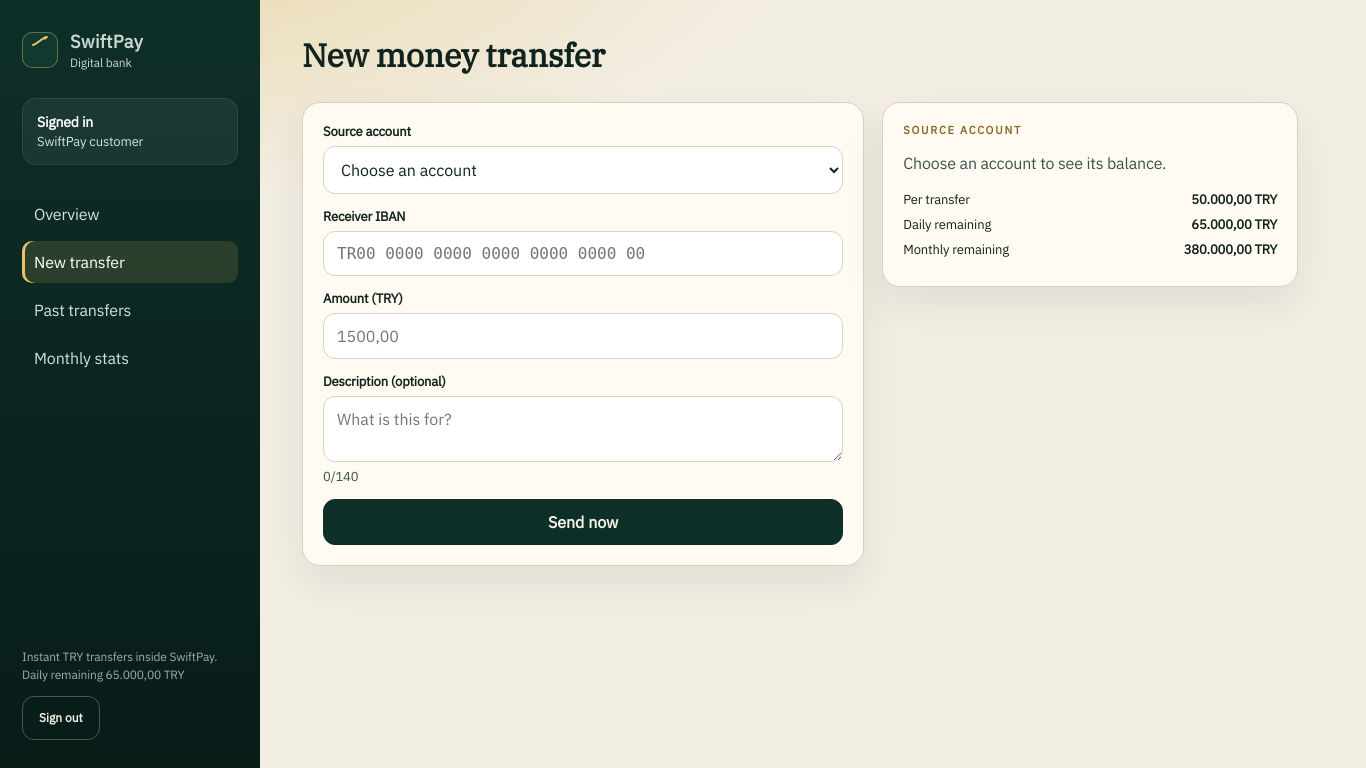
New transfer form › a double click sends exactly one request
Select "TR62 **** **** **** **** 1001 — 250.000,00 TRY" in the dropdown labelled "Source account": {"x": 583, "y": 170} x1=323 y1=146 x2=843 y2=194
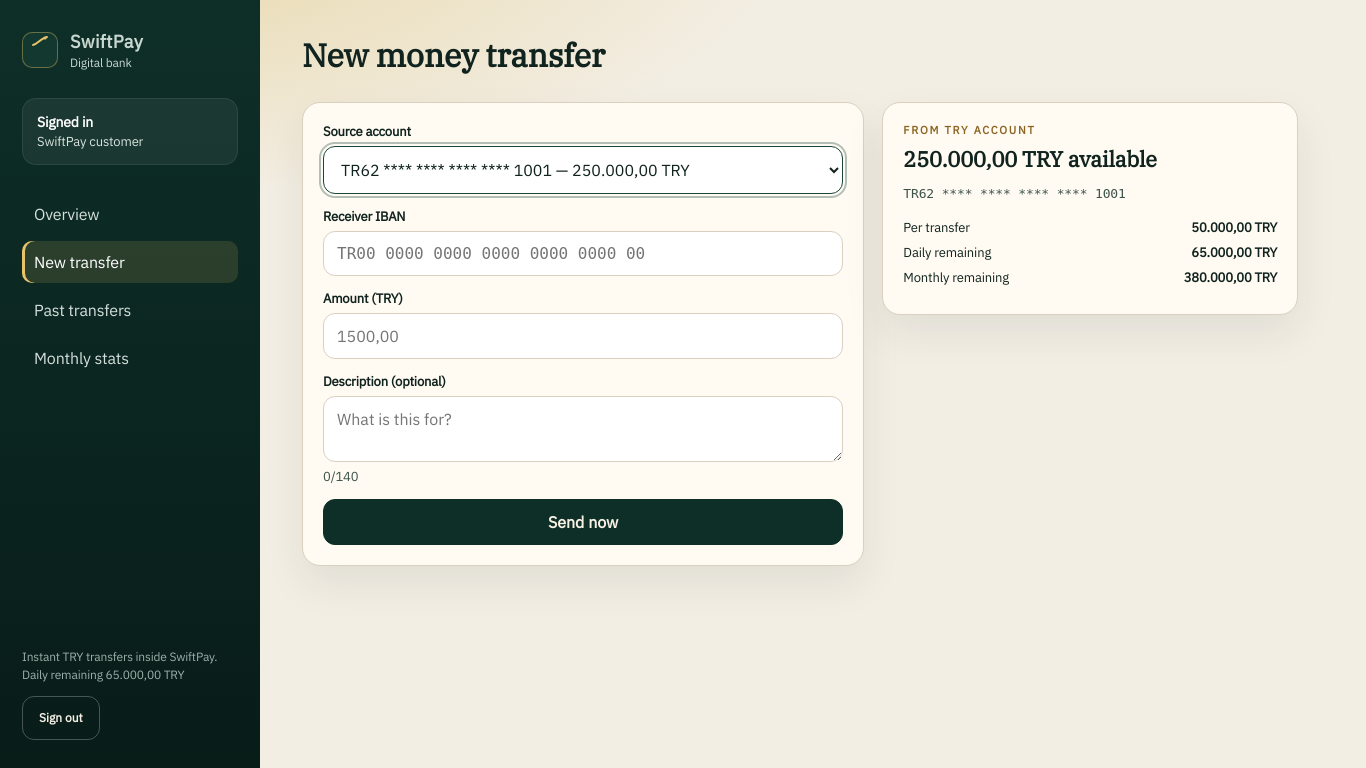
In the field labelled "Receiver IBAN": {"x": 583, "y": 254} x1=323 y1=231 x2=843 y2=276, type "TR690006200000000000002001"
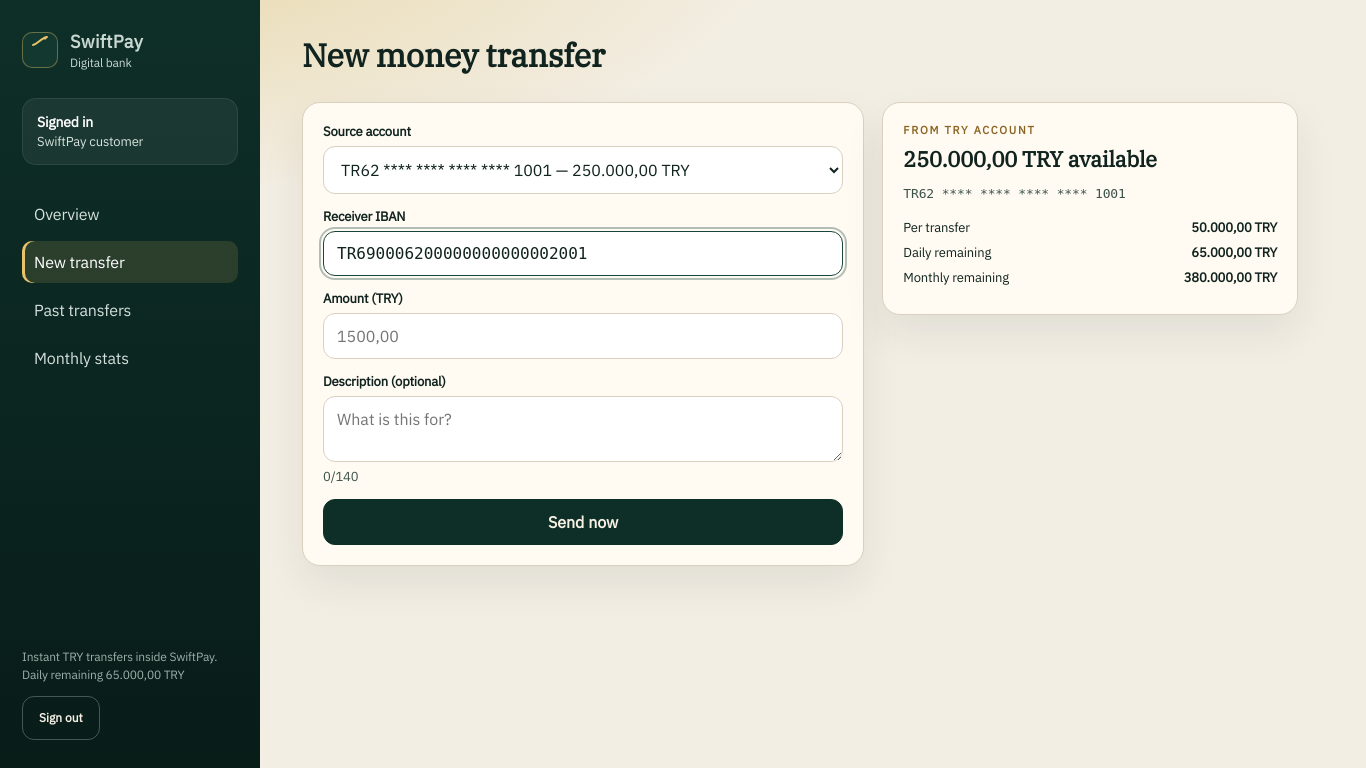
In the field labelled "Amount (TRY)": {"x": 583, "y": 336} x1=323 y1=313 x2=843 y2=359, type "1500"
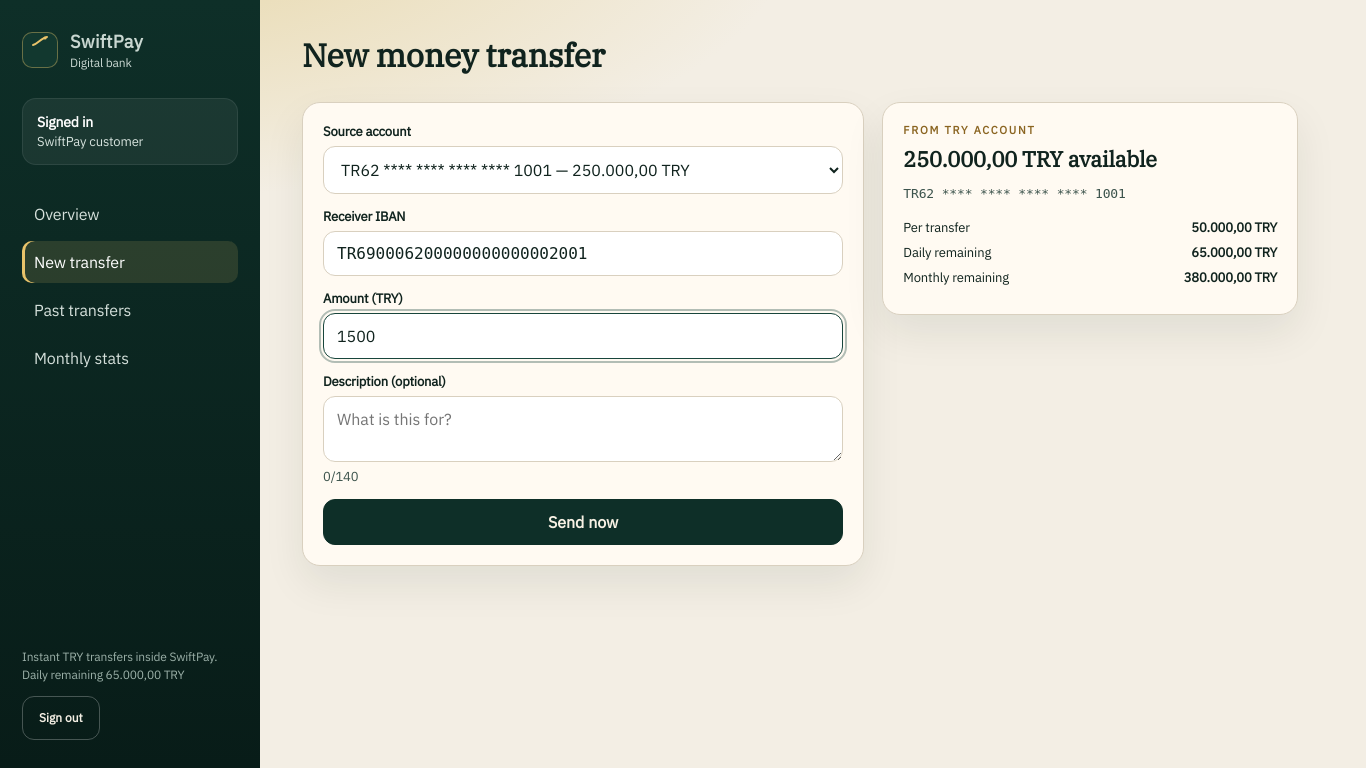
In the text box labelled "Description (optional)": {"x": 583, "y": 429} x1=323 y1=396 x2=843 y2=462, type "Kira"
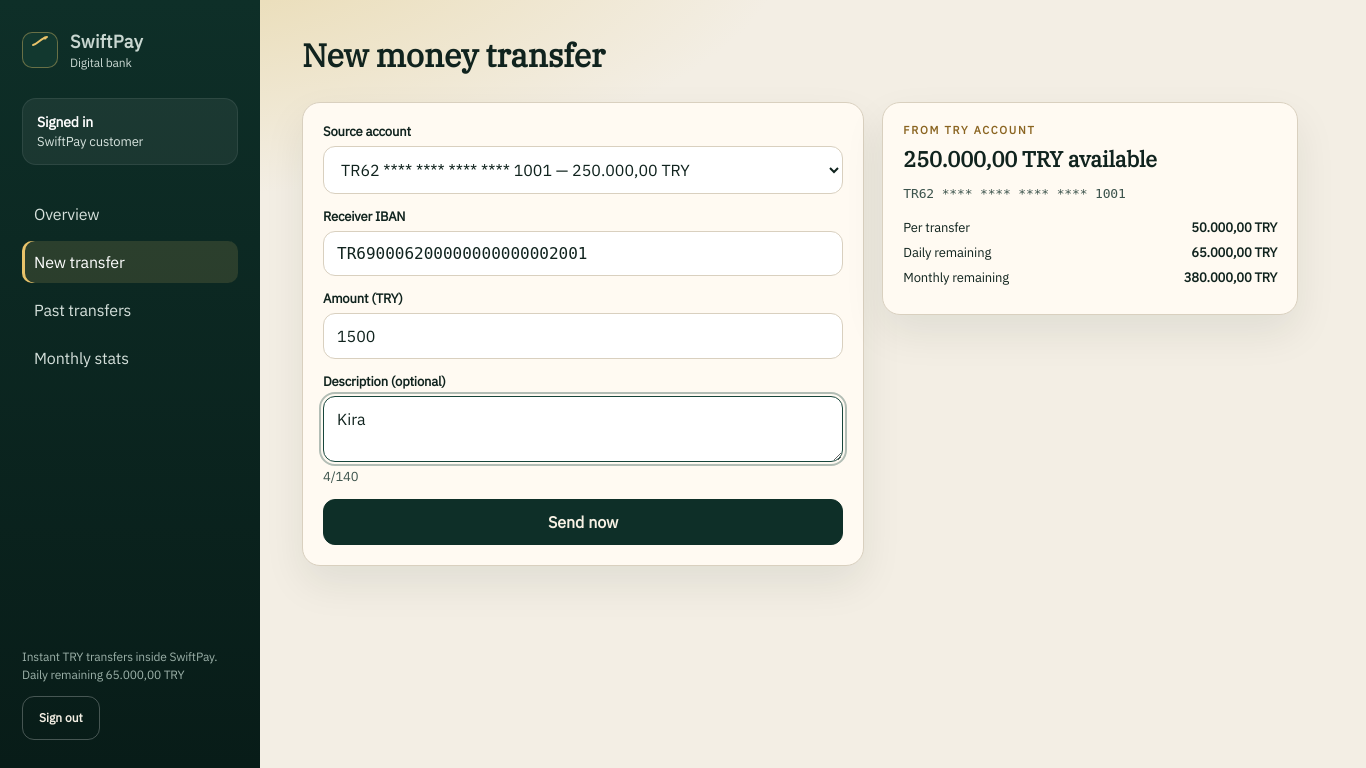
Double-click the button "Send now": {"x": 583, "y": 522} x1=323 y1=499 x2=843 y2=545
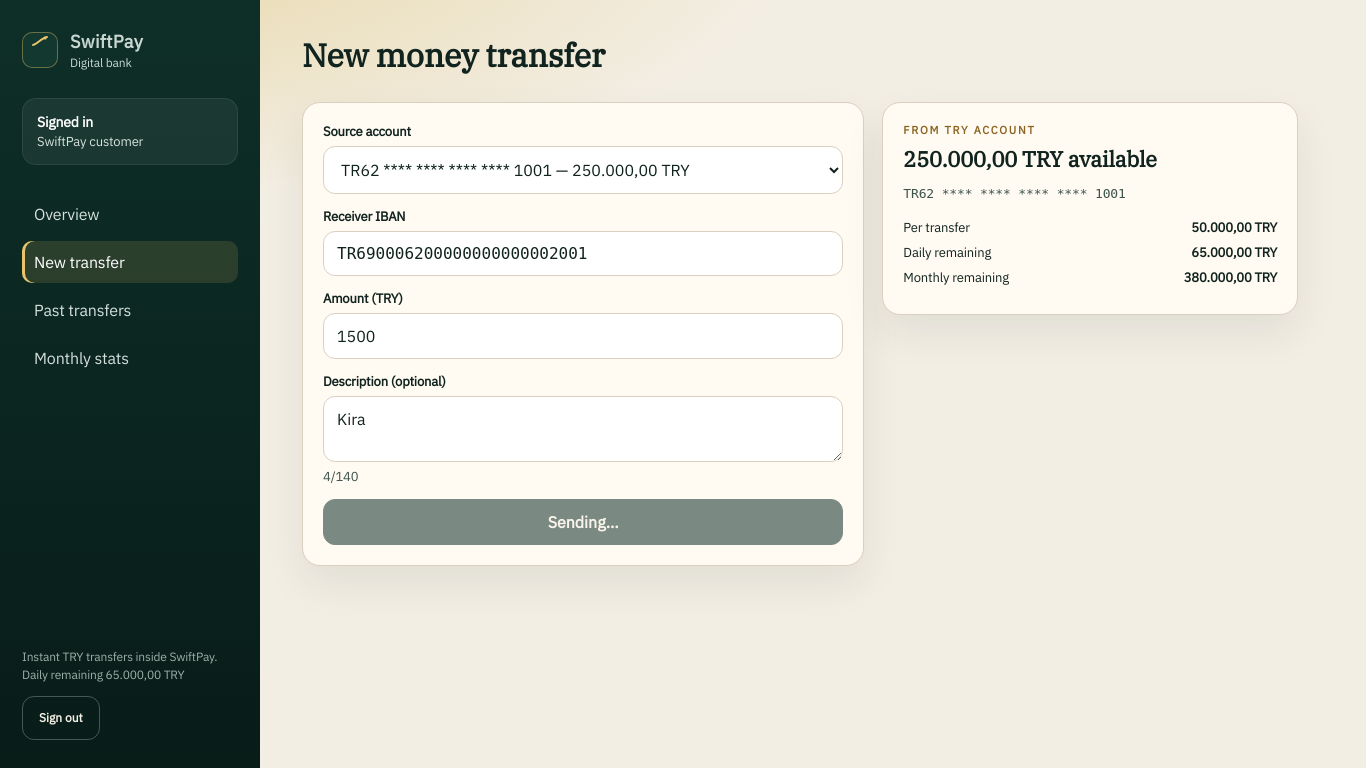
Submit the form named "Send now", box x1=302 y1=102 x2=864 y2=566
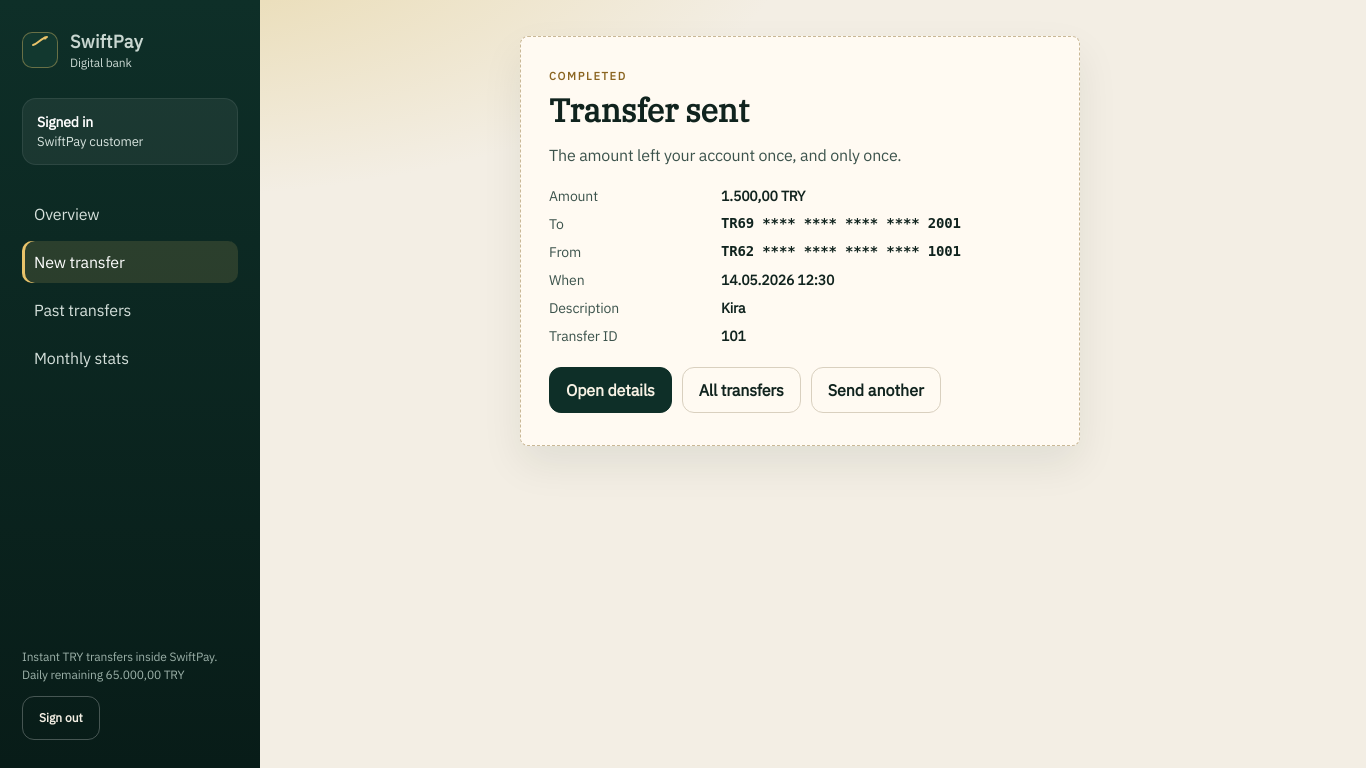
Check: the heading "Transfer sent" is shown, box x1=549 y1=89 x2=749 y2=131
